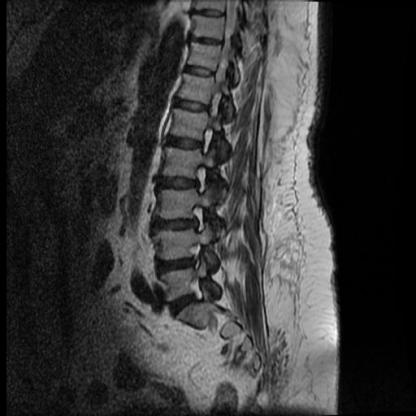Degenerative Disc Diseaserotation: (159, 256, 196, 276)
Disc Bulgerotation: (165, 293, 203, 313), (159, 256, 195, 276), (160, 176, 199, 194), (159, 218, 195, 234), (166, 136, 204, 151)
